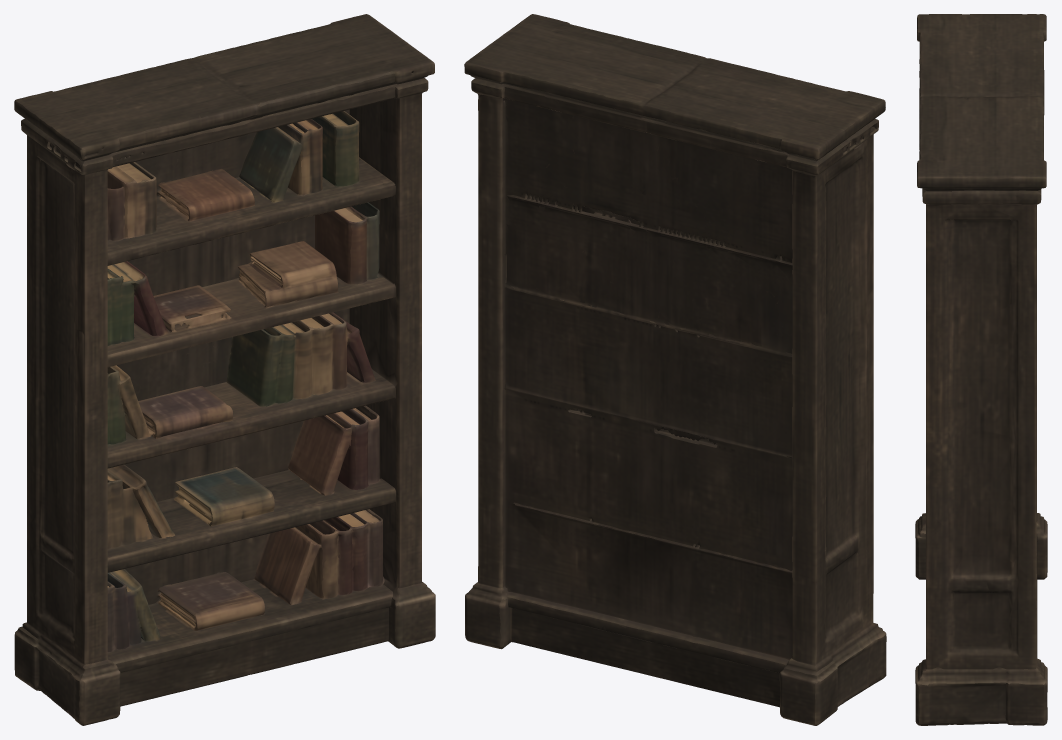
File: shelf-optimized.glb
The picture shows the model from 3 angles, left to right: view 1: azimuth 30°, elevation 25°; view 2: azimuth 150°, elevation 25°; view 3: azimuth 270°, elevation 25°; orthographic projection. The views are drawn at different scales.
Parts seen in each view (by area): view 1: world; view 2: world; view 3: world.
Boxes of the visible parts, bbox=[...] form: world: bbox=[14, 14, 435, 725]; world: bbox=[464, 14, 886, 725]; world: bbox=[915, 14, 1047, 725].
Size of the model in its own units: 0.6475 by 1 by 0.2185.
Materials: 1 (1 with a texture image).
